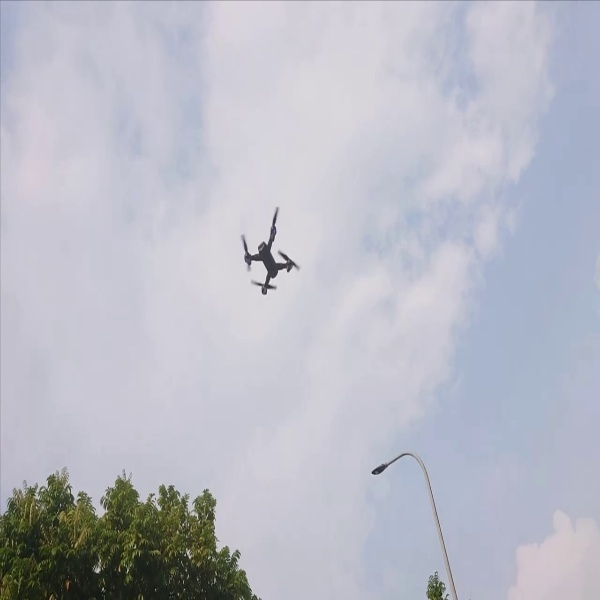drone: (235, 206, 307, 302)
